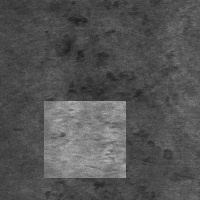rolled-in_scale: (44, 73, 161, 198), (44, 101, 126, 178), (56, 2, 113, 66)
